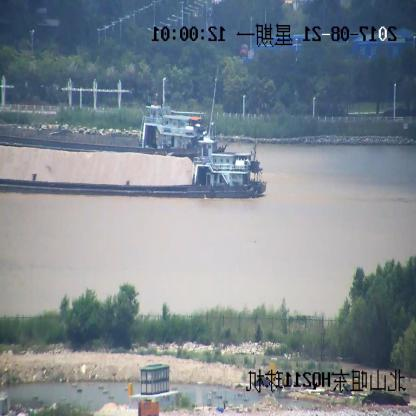Bulk Carrier: (0, 108, 213, 152)
